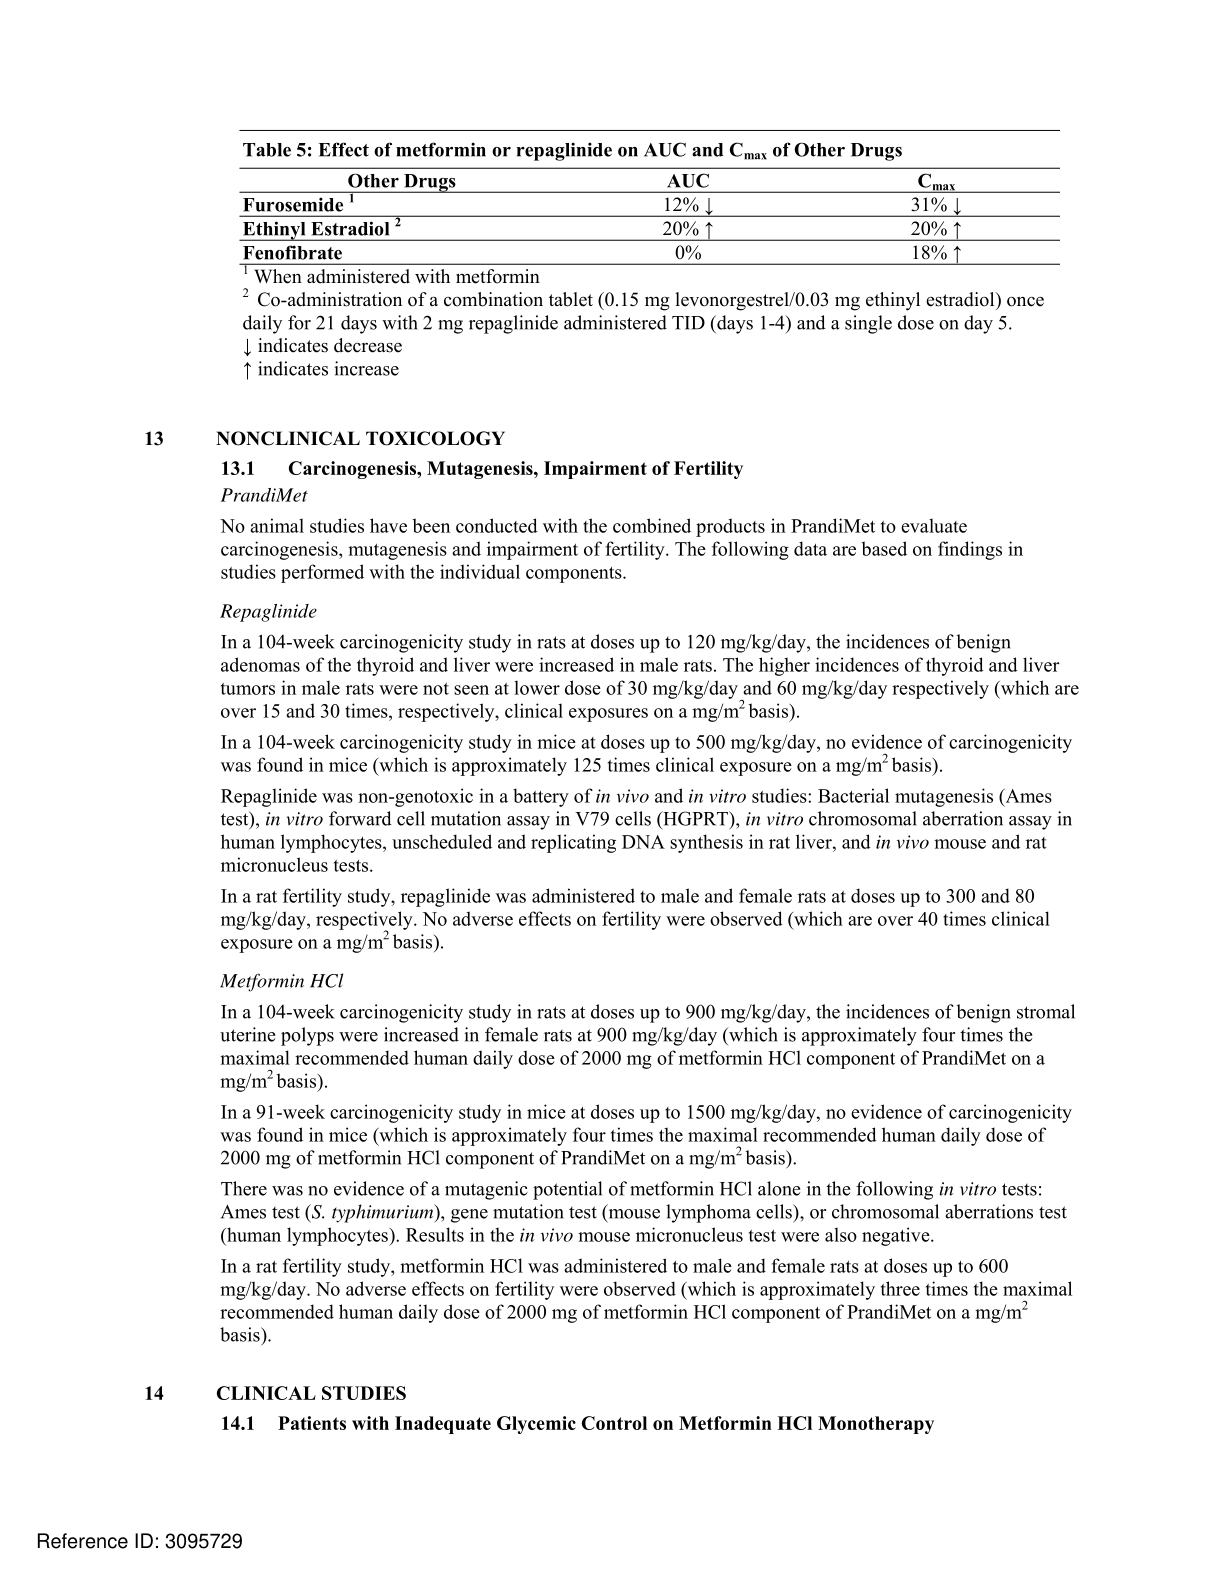partial_lined: (237, 166, 1059, 266)
